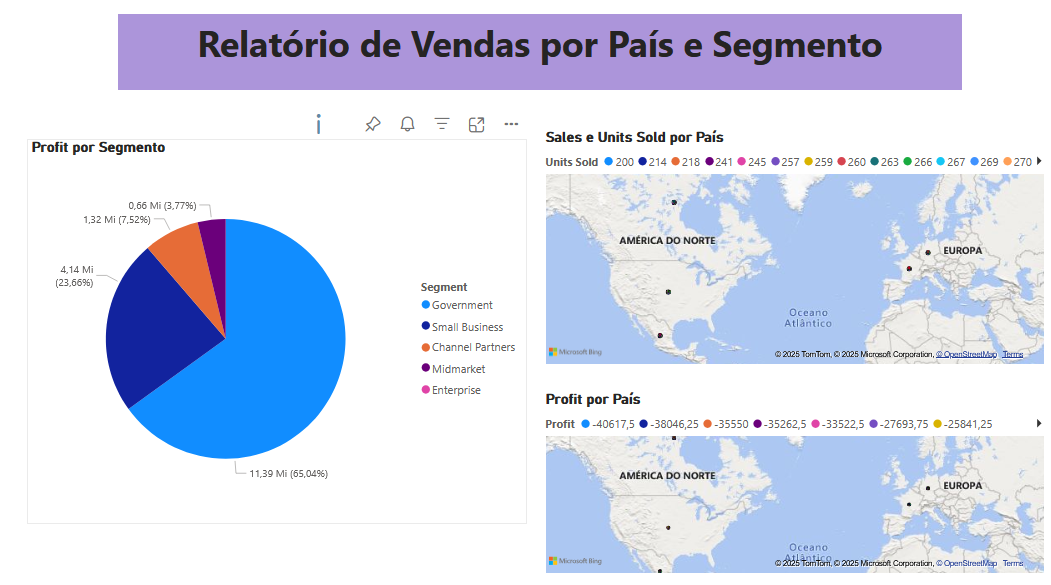

This screenshot's page, from the dashboard's own definition file:
{"tool":"powerbi","page":{"name":"Página 3","canvas":[1280,720],"ordinal":2},"visuals":[{"type":"textbox","box":[149.8,21,1011.2,91.4],"z":0},{"type":"pieChart","title":"Profit por Segmento","fields":{"Category":["financials.Segment"],"Y":["Sum(financials.Profit)"]},"box":[40.4,170.8,599.3,461.4],"z":1000},{"type":"map","title":"Sales e Units Sold por País","fields":{"Category":["financials.Country"],"Series":["financials.Units Sold"]},"box":[656.2,158.8,608.2,287.6],"z":2000},{"type":"map","title":"Profit por País","fields":{"Category":["financials.Country"],"Series":["financials.Profit"]},"box":[656.2,473.4,608.2,223.2],"z":3000}]}

Visuals, with their boxes on the page's 1280x720 design canvas (x1, y1, x2, y2). These are canvas units, not pixel positions in the 1051x585 screenshot, which may show the page scaled, cropped or inside an application window:
textbox: region(150, 21, 1161, 112)
"Profit por Segmento" pieChart: region(40, 171, 640, 632)
"Sales e Units Sold por País" map: region(656, 159, 1264, 446)
"Profit por País" map: region(656, 473, 1264, 697)
